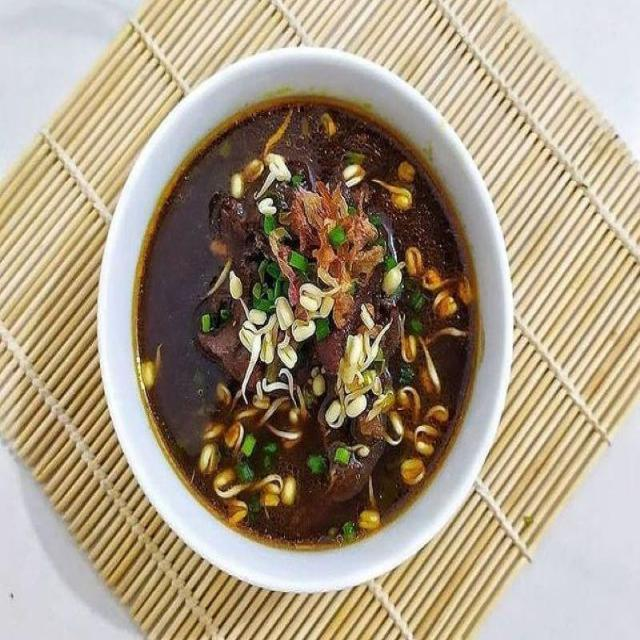Rawon: (131, 100, 492, 561)
